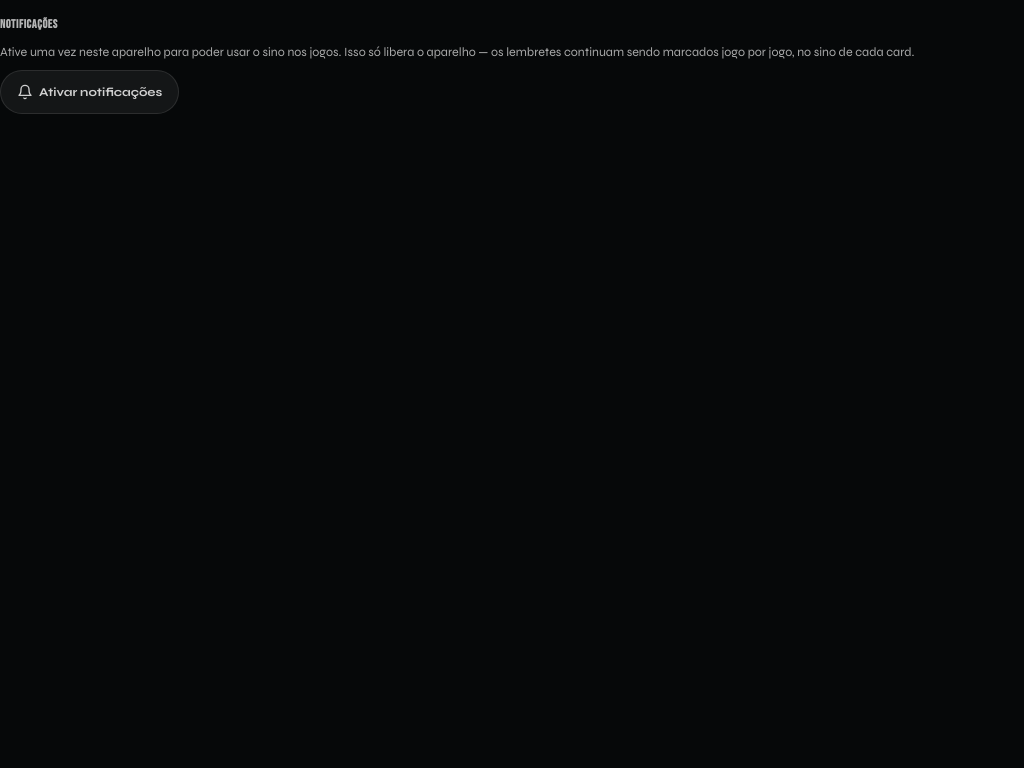
Test: GlobalNotificationToggle — botão global de notificações › permissão denied: abre a ajuda SEM inscrever (sem novo requestPermission)
Click the button with aria-label "Ativar notificações neste aparelho" at (90, 92), box x1=0 y1=70 x2=179 y2=114
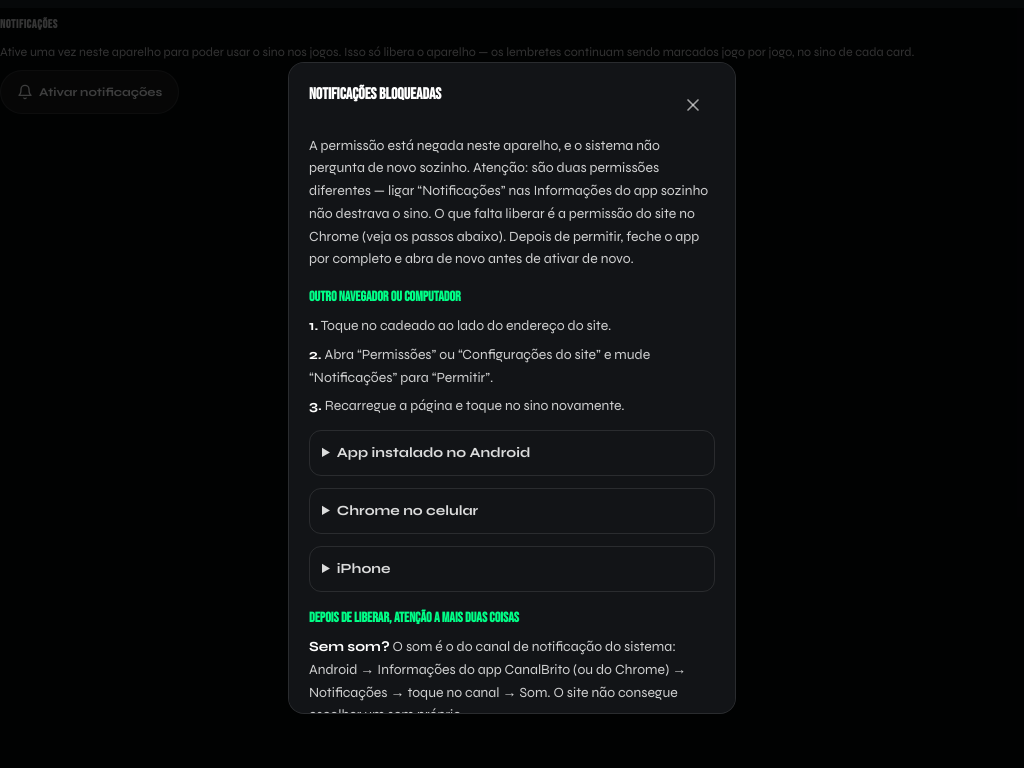
Now the dialog "Notificações bloqueadas" is shown
